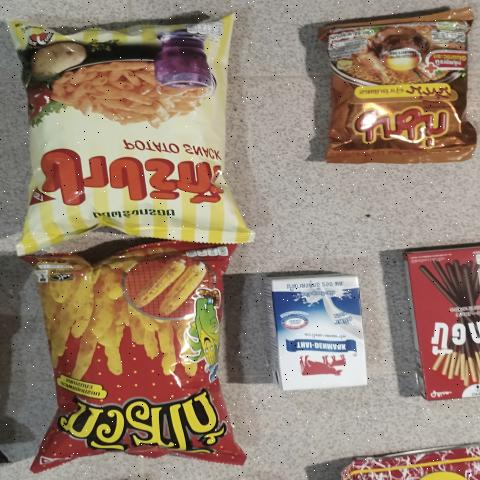mama: (314, 15, 470, 161)
paprika: (20, 20, 232, 248)
pokki: (403, 237, 480, 398)
thai_denmark: (271, 274, 371, 390)
twisco: (53, 250, 223, 457)
